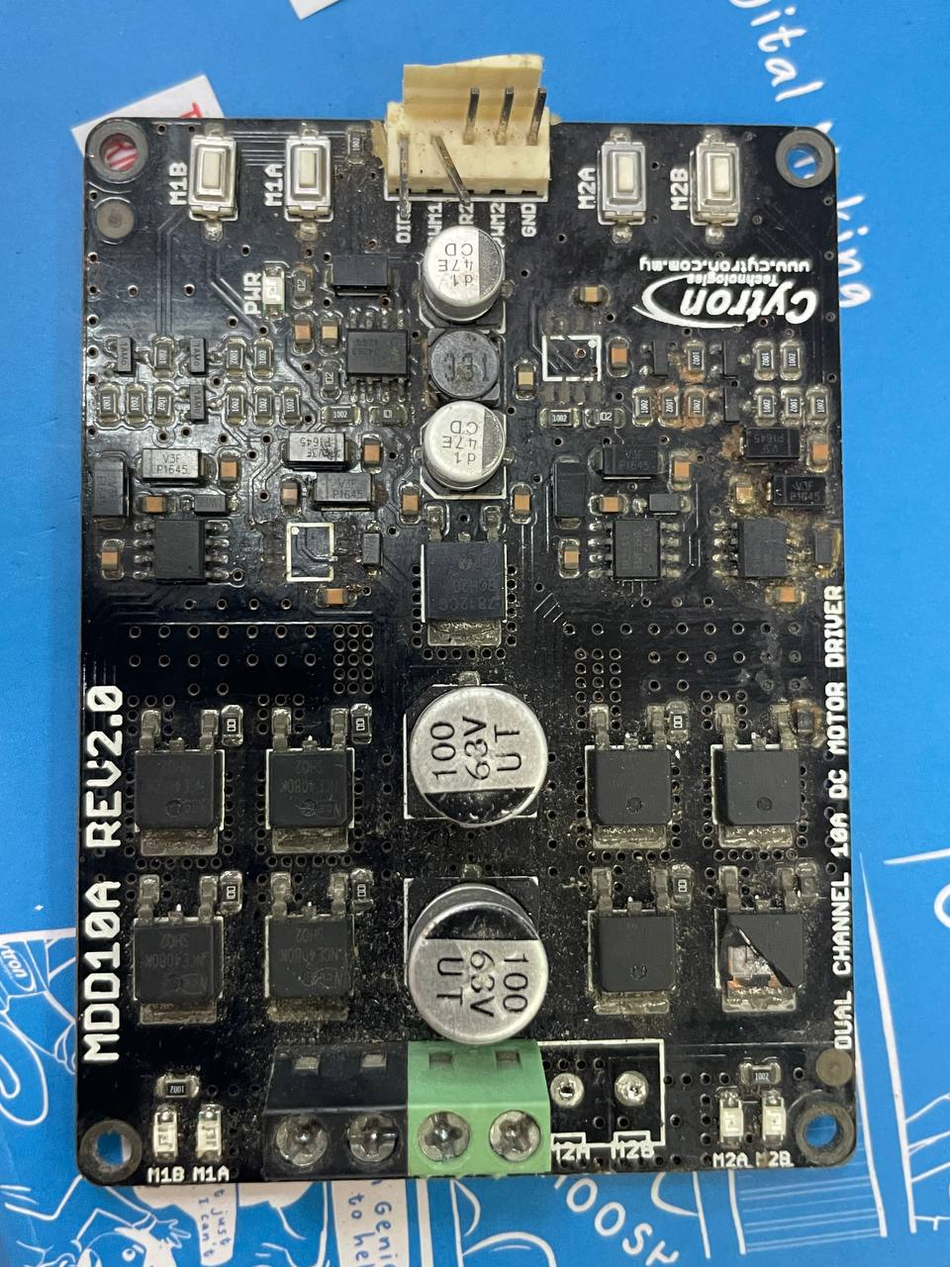bent_pin: (424, 126, 476, 212), (380, 130, 418, 228)
broken_comp: (711, 890, 815, 1005)
missing_comp: (284, 519, 337, 585), (543, 330, 606, 383)
missing_tb: (545, 1038, 669, 1163)
